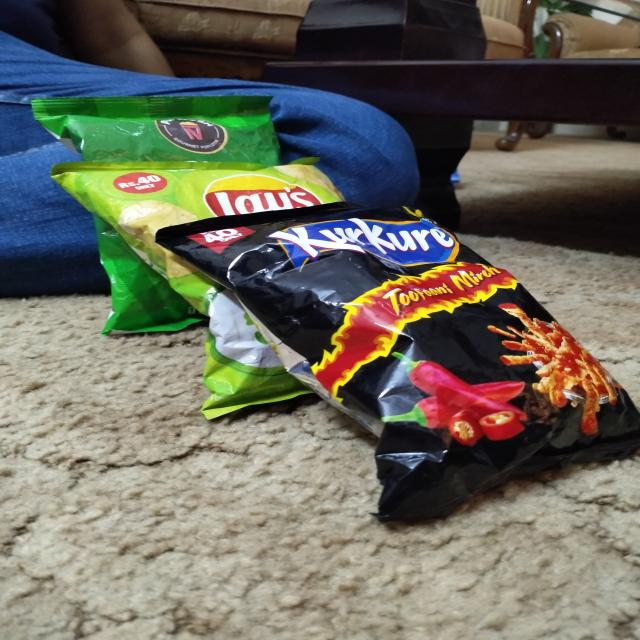Plastic: (150, 210, 640, 522), (34, 96, 282, 166), (54, 166, 345, 217)
